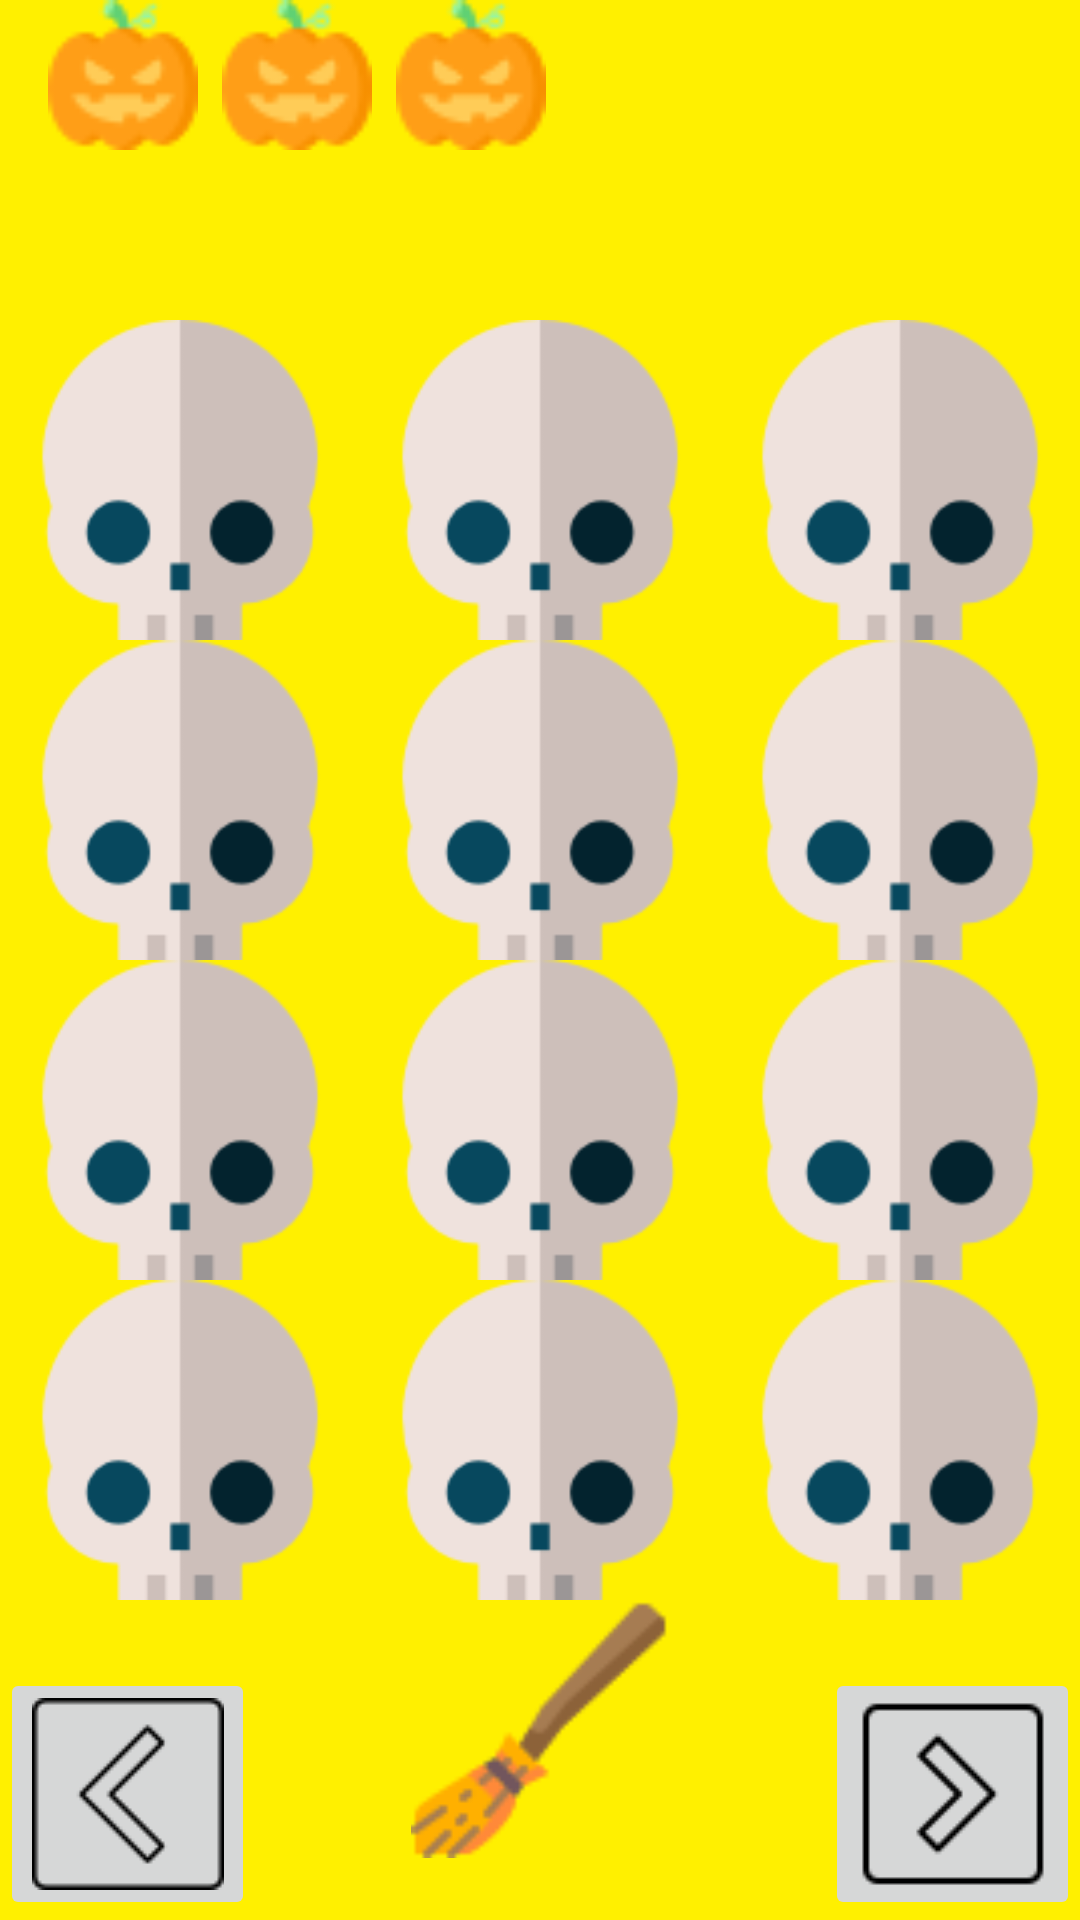

Screen size 1080x1920. Icon name, then its box in pixels as rect(x1, y1, x2, y2):
left: rect(12, 1686, 243, 1902)
pumpkin: rect(48, 0, 198, 150), rect(222, 0, 372, 150), rect(396, 0, 546, 150)
right: rect(837, 1686, 1068, 1902)
witch broom: rect(411, 1603, 666, 1858)
